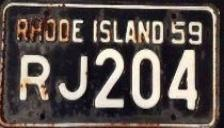0: (130, 46, 161, 110)
2: (93, 46, 128, 110)
4: (166, 48, 203, 114)
J: (56, 51, 93, 108)
R: (18, 53, 52, 104)
